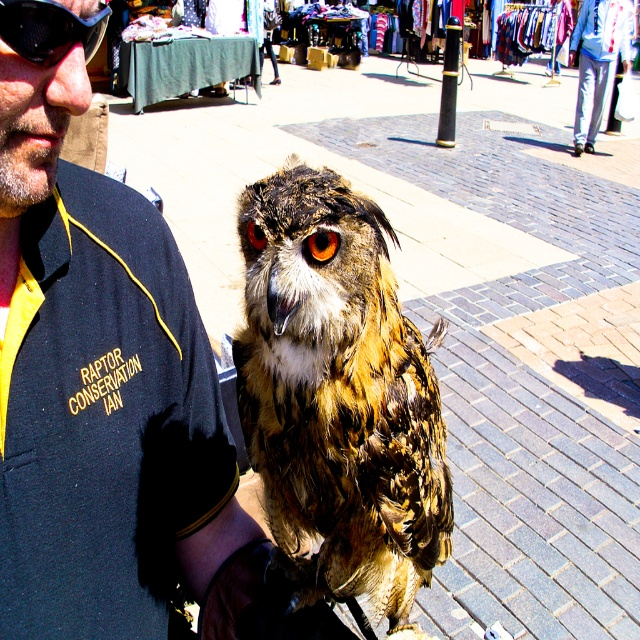Owl: (219, 151, 456, 639)
